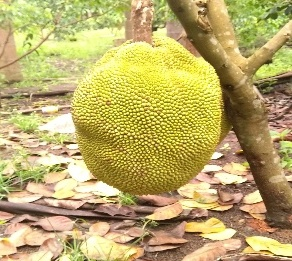Mit: (71, 40, 224, 198)
